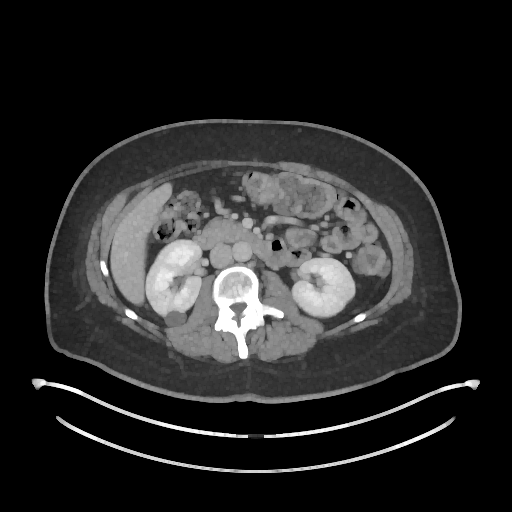Lesion: (163, 308, 188, 328)
